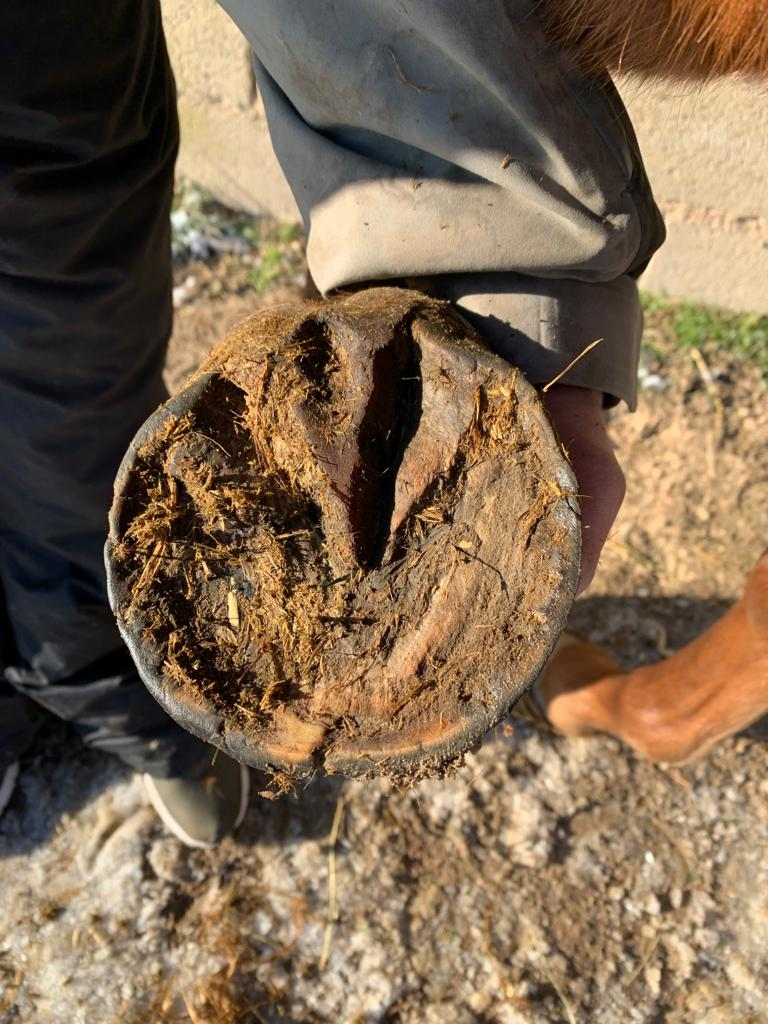horsesole: (101, 321, 583, 774)
